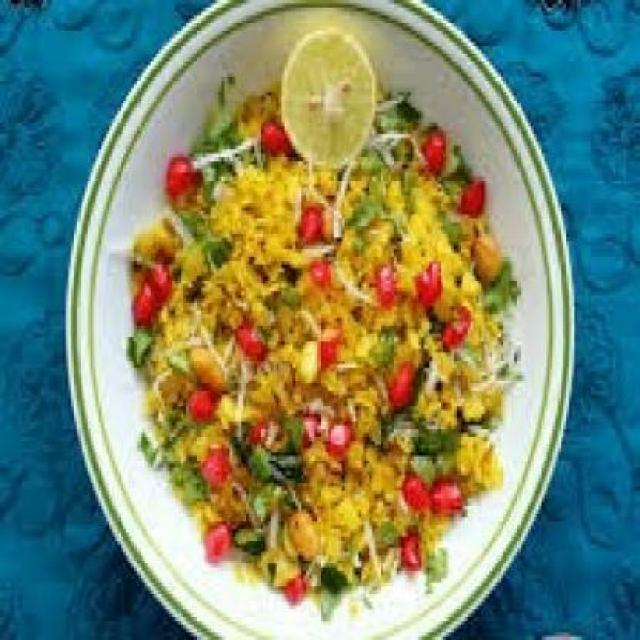poha: (130, 26, 512, 600)
